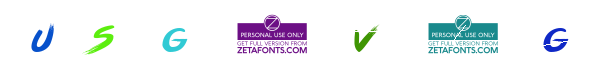0: (263, 0, 343, 80)
7: (294, 0, 374, 80)
G: (249, 0, 329, 80), (423, 0, 503, 80)
S: (232, 0, 312, 80)
U: (175, 0, 255, 80)
V: (265, 0, 345, 80)
